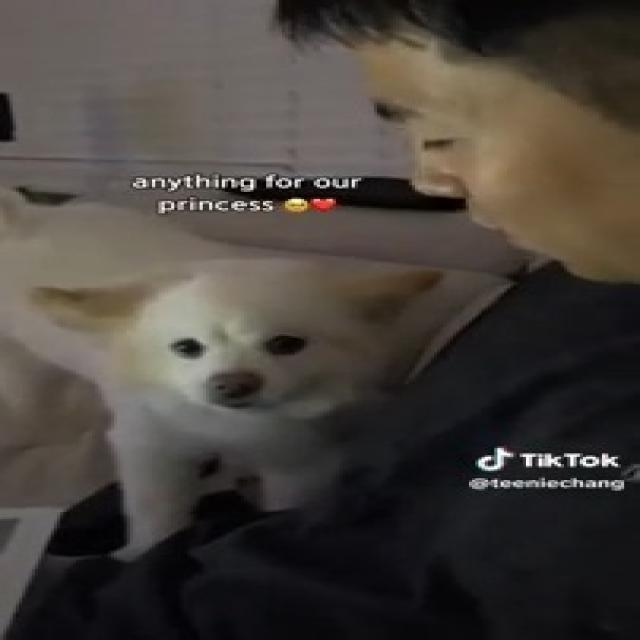dogs: (22, 239, 457, 532)
